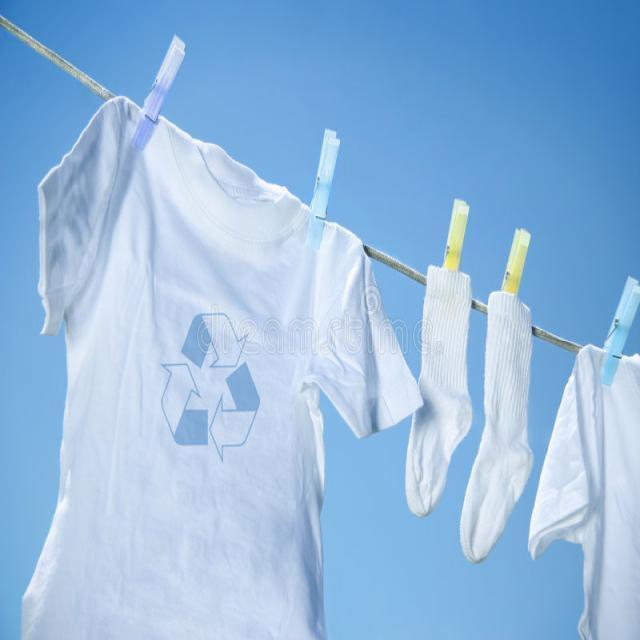clothes: (46, 89, 418, 640)
